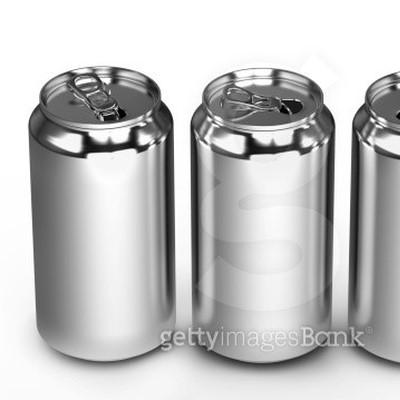beer: (30, 65, 400, 366)
